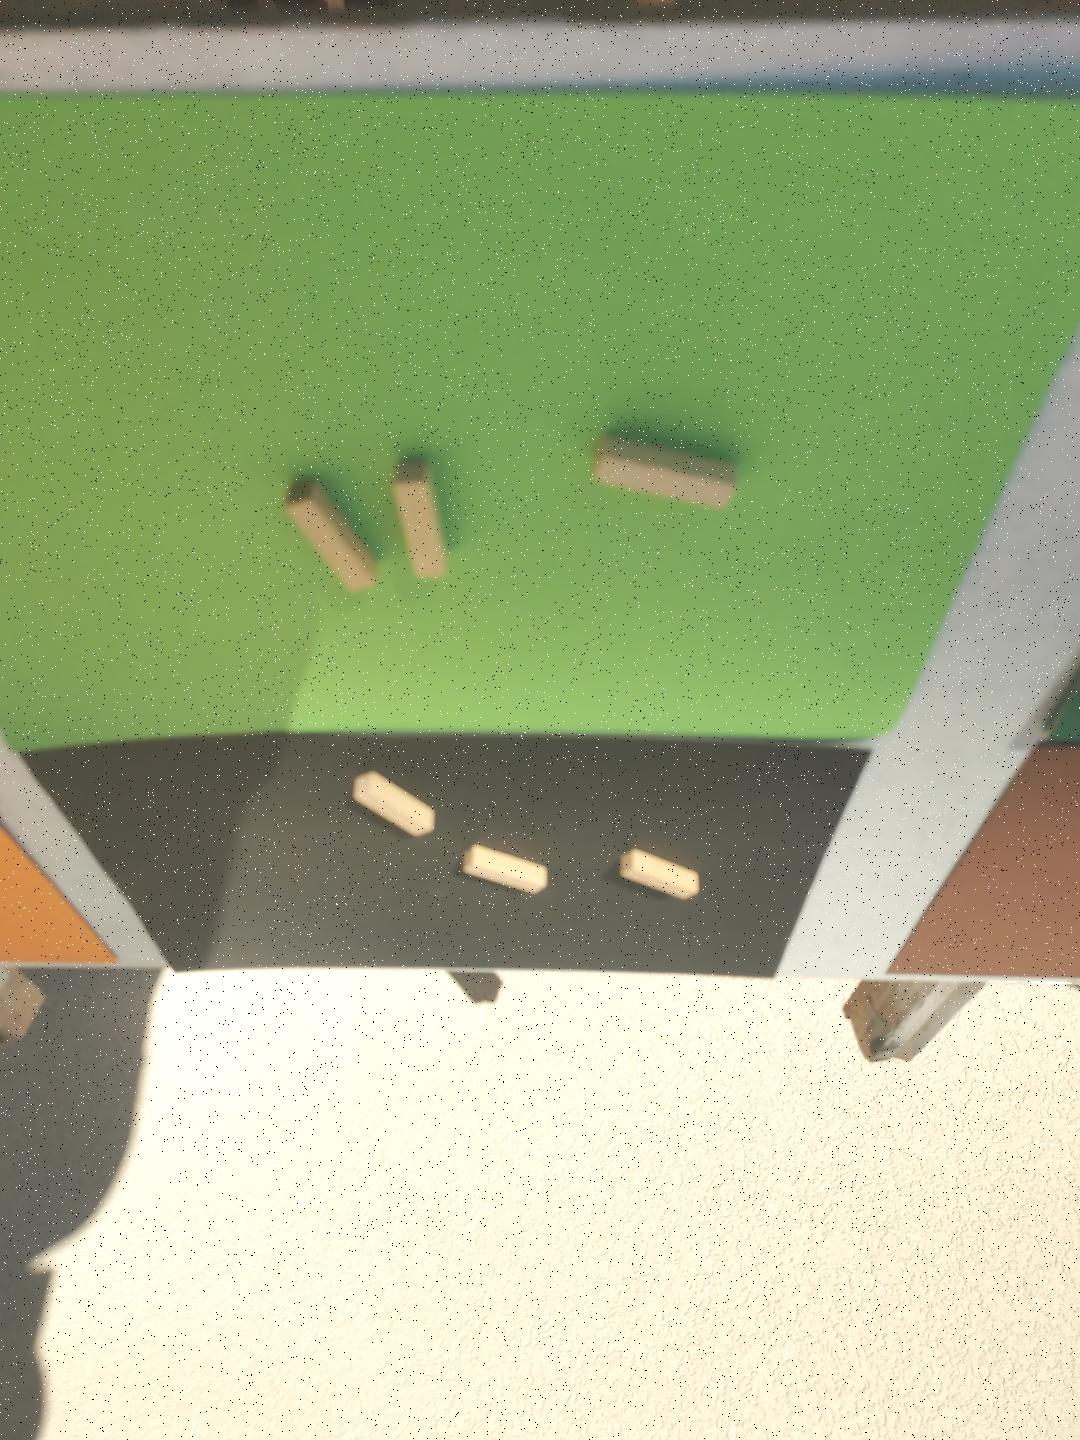jenga: (593, 435, 737, 509), (284, 481, 377, 591), (394, 458, 447, 579), (352, 771, 436, 836), (462, 844, 548, 895), (618, 849, 700, 900)
